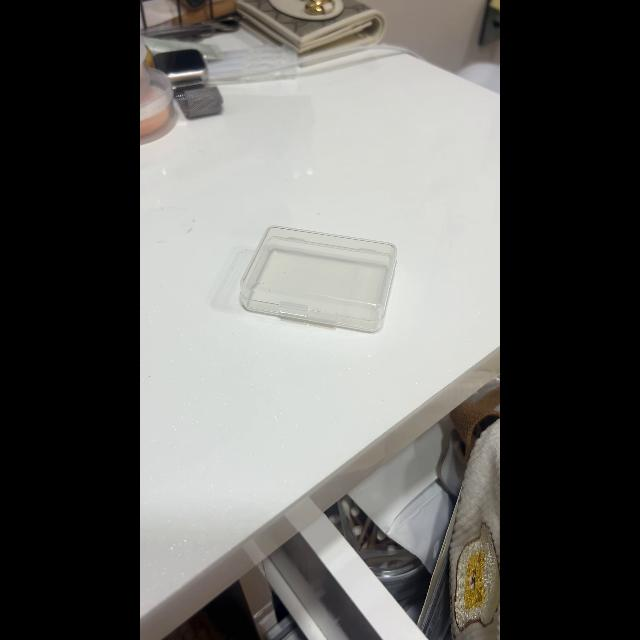clean: (242, 222, 396, 336)
